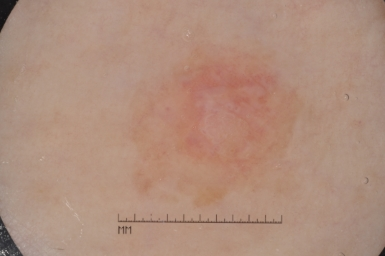seborrheic keratosis: (114, 46, 311, 209)
